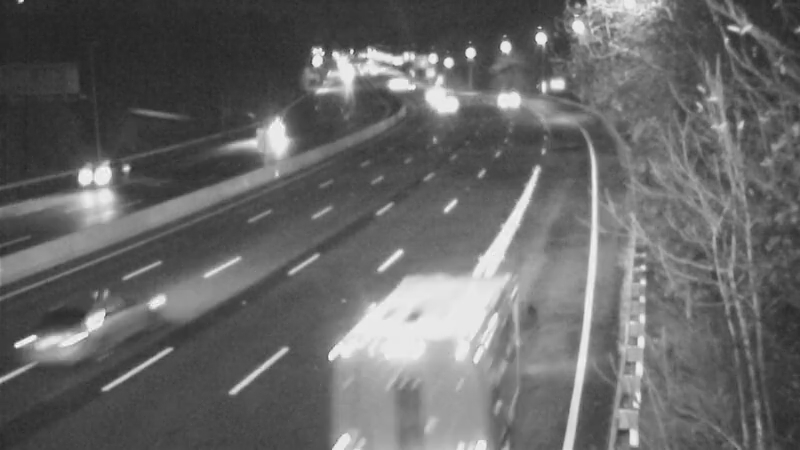vehicle: (1, 278, 111, 388), (361, 344, 471, 450), (50, 137, 130, 217), (401, 65, 451, 115), (480, 77, 530, 127), (422, 79, 472, 129), (250, 109, 300, 159)
